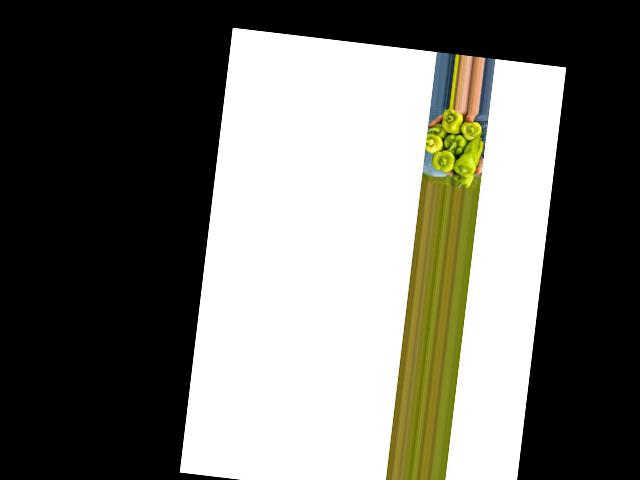bell_pepper: (438, 108, 462, 135)
